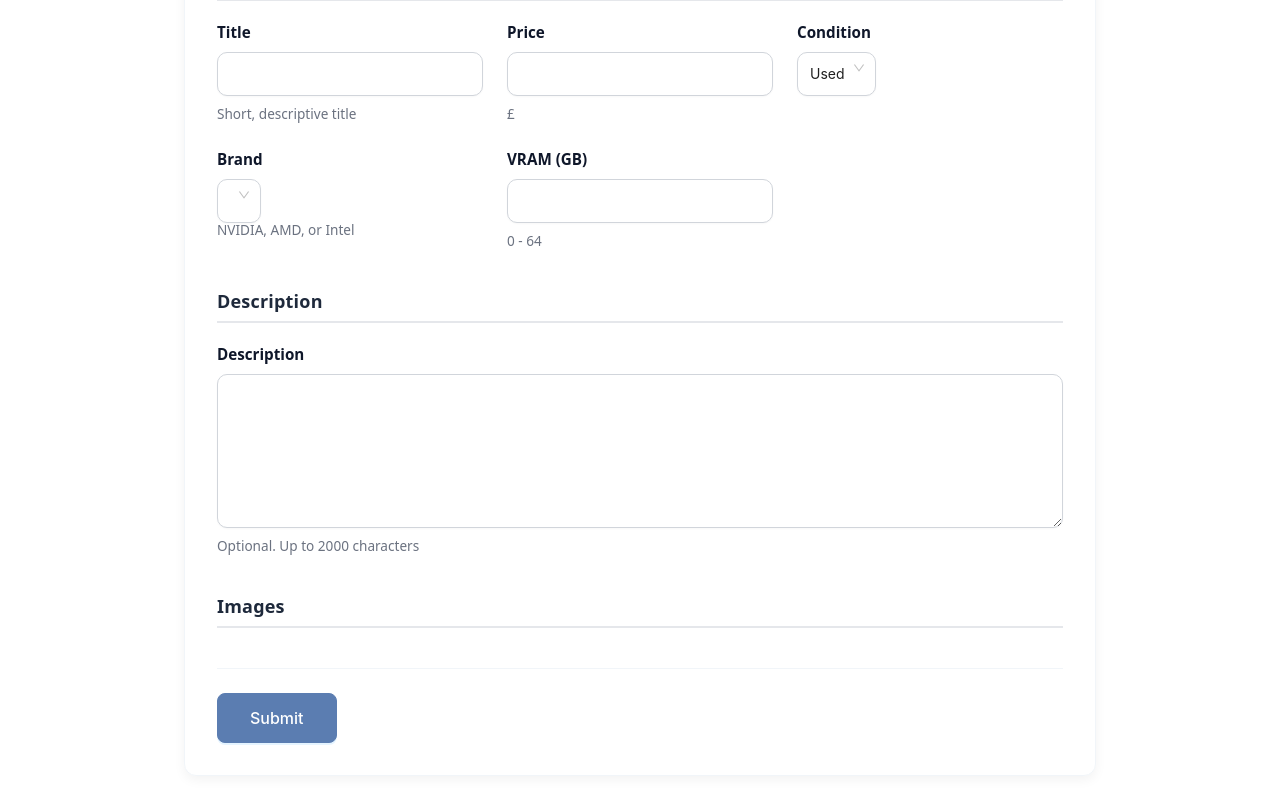
Sell negative › shows zod errors when required fields missing
Step 1. Click the button "Submit" → point(277, 718), box [217,692,336,742]
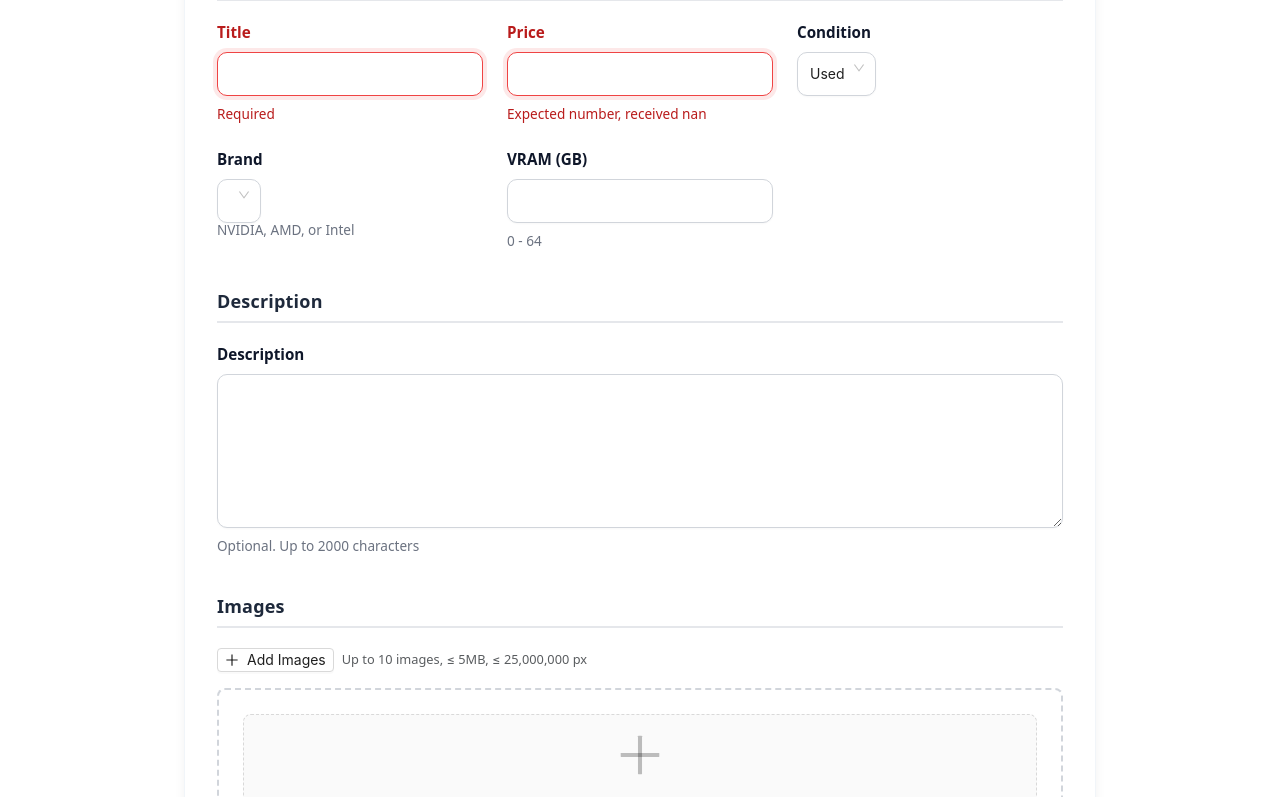
Expected: the text "Required" is shown, [217,104,275,123]
Expected: the text "Expected number, received nan" is shown, [507,104,706,123]
